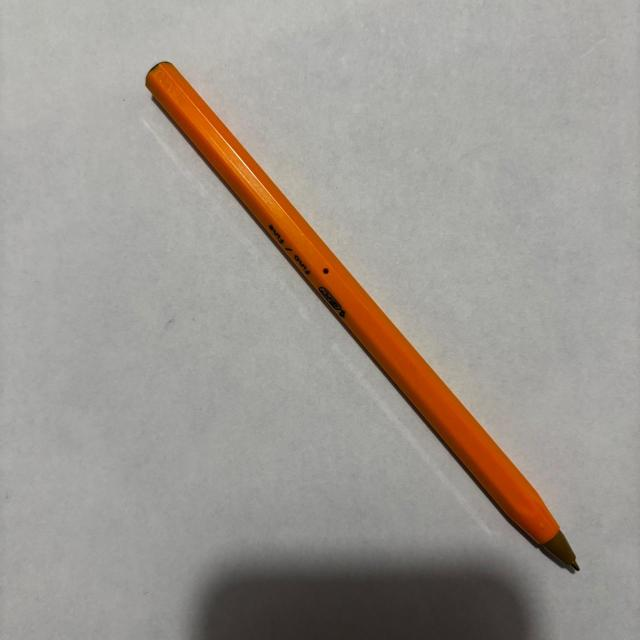pencil: (146, 62, 580, 574)
